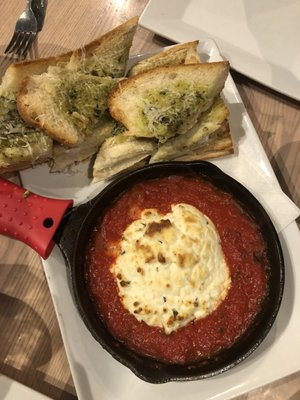burger: (0, 0, 43, 88), (3, 0, 48, 63)
soup: (107, 38, 234, 162)
